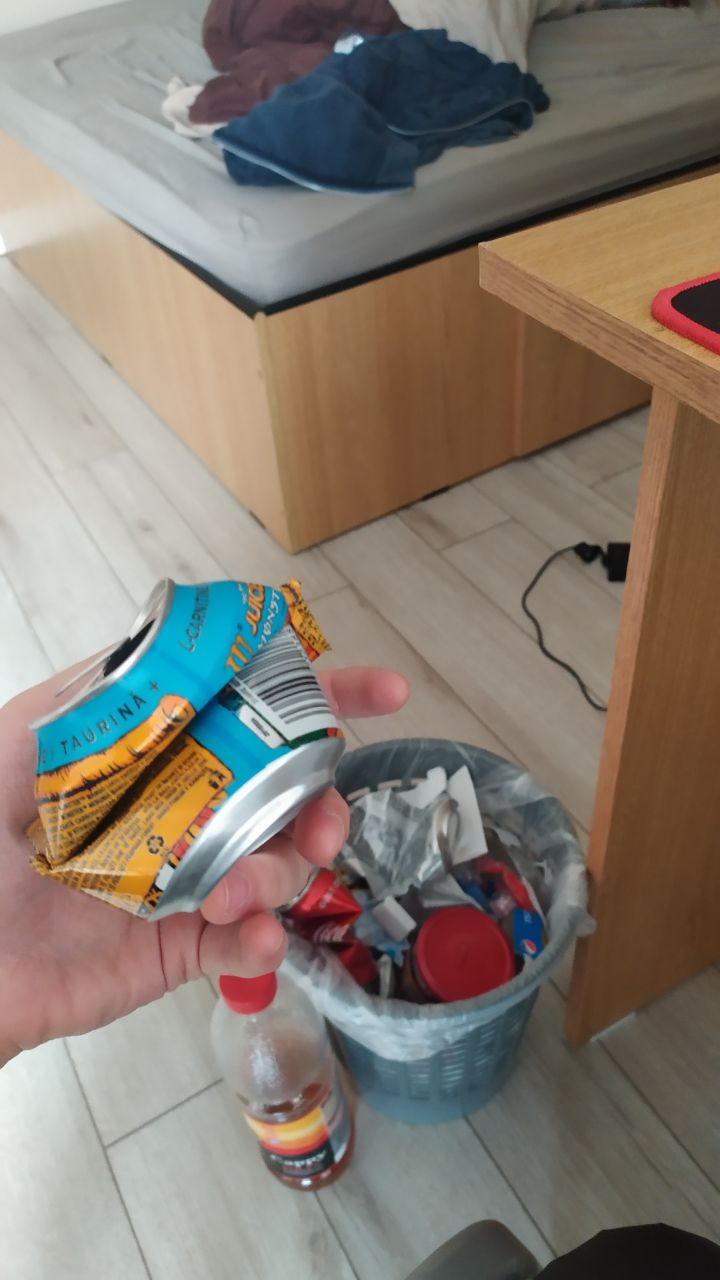Can: (28, 568, 341, 904), (287, 864, 389, 1001), (345, 789, 467, 889)
